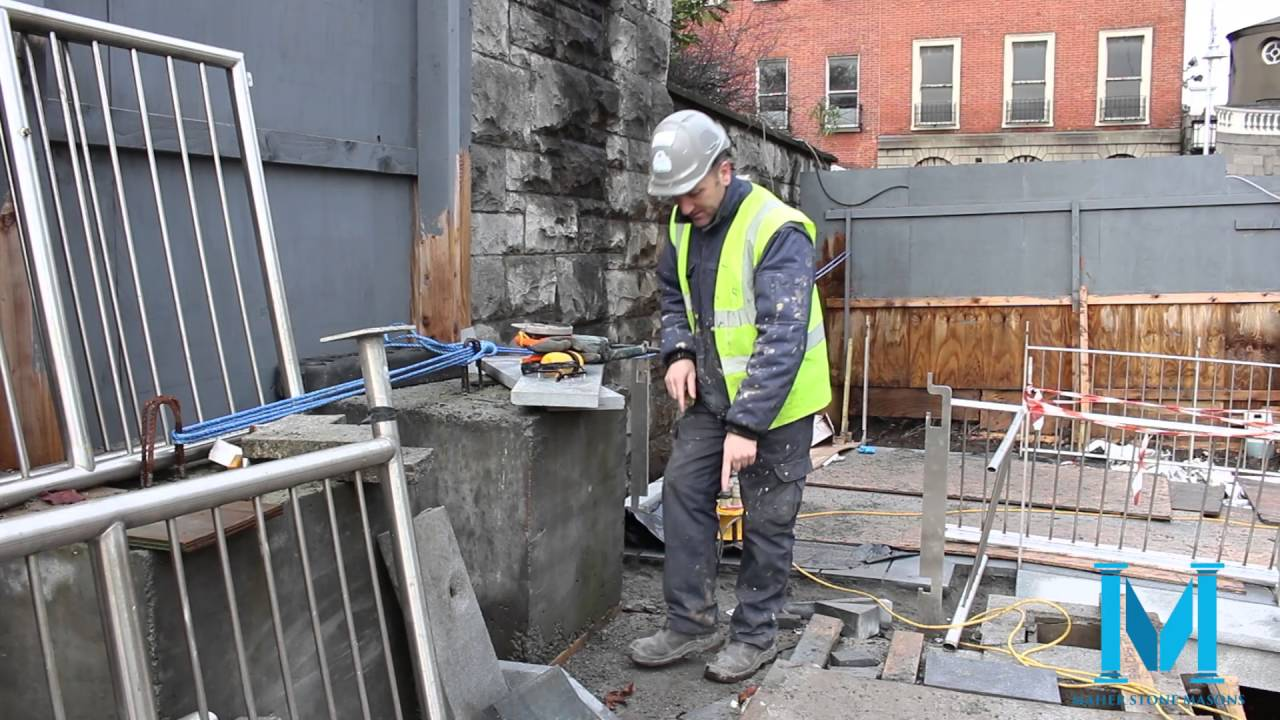Hard Hat: (640, 112, 738, 195)
High Viz: (687, 193, 800, 408)
